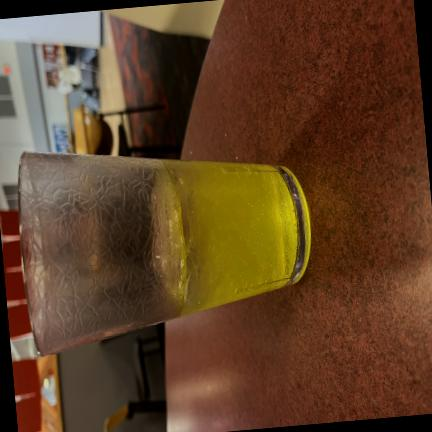container: (19, 151, 311, 355)
fluid: (164, 160, 299, 315)
fluid-surface: (160, 159, 186, 311)
